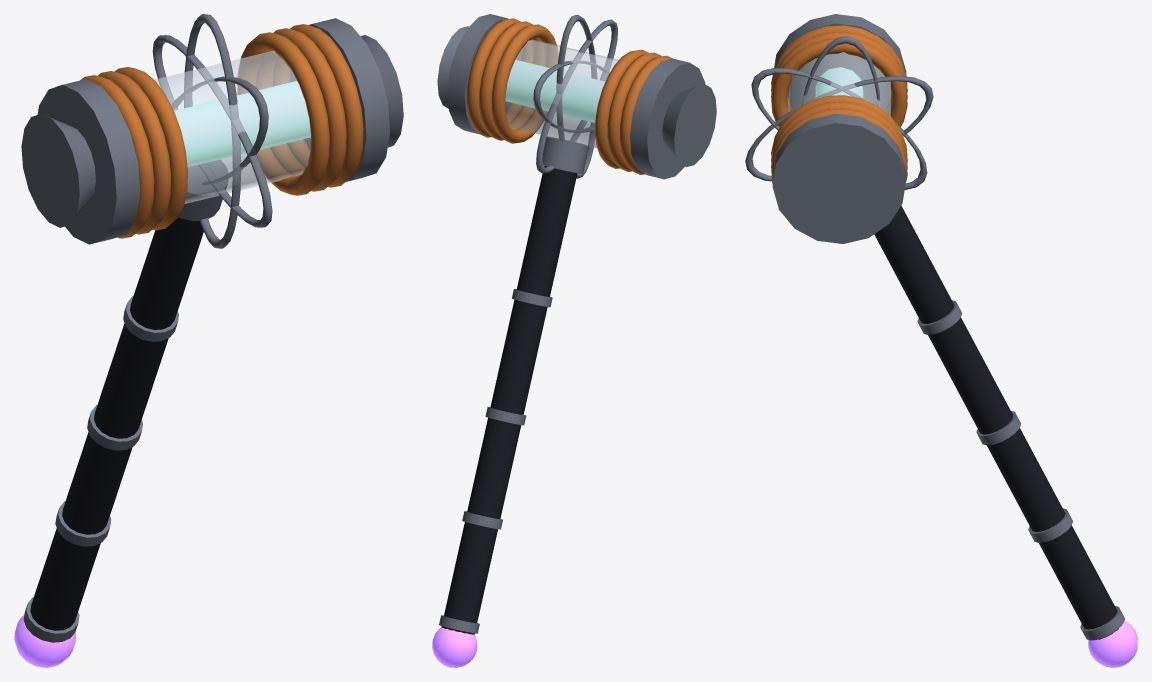
The model's file is hand_eqgw0.glb.
The picture shows the model from 3 angles, left to right: view 1: azimuth 30°, elevation 25°; view 2: azimuth 150°, elevation 25°; view 3: azimuth 270°, elevation 25°; orthographic projection. The views are drawn at different scales.
Size of the model in its own units: 1.87 by 4.25 by 2.4.
